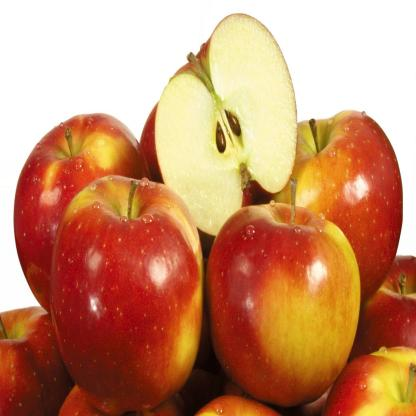apple: (47, 171, 205, 406), (201, 207, 361, 407), (17, 112, 161, 327), (266, 108, 410, 317)
